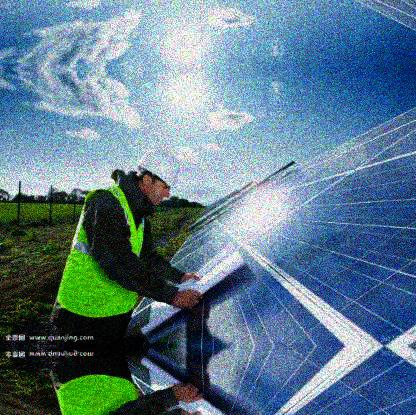helmet: (136, 149, 179, 216)
